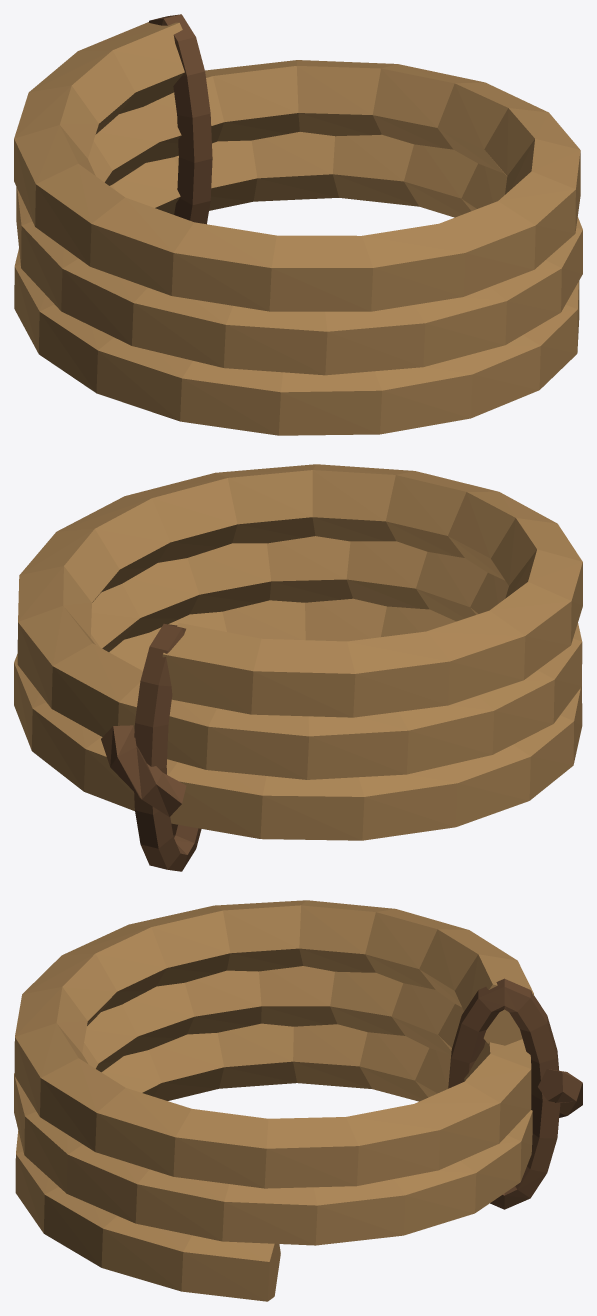
File: rope.glb
The picture shows the model from 3 angles, top to bottom: view 1: azimuth 30°, elevation 25°; view 2: azimuth 150°, elevation 25°; view 3: azimuth 270°, elevation 25°; orthographic projection. The views are drawn at different scales.
Visible parts, largest first — view 1: material_rope_quality; view 2: material_rope_quality; view 3: material_rope_quality.
Part boxes in pixels (x1,y1,x2,y2): material_rope_quality: (14,14,582,435); material_rope_quality: (14,464,582,871); material_rope_quality: (14,900,582,1301).
Size of the model in its own units: 0.5425 by 0.2564 by 0.5928.
